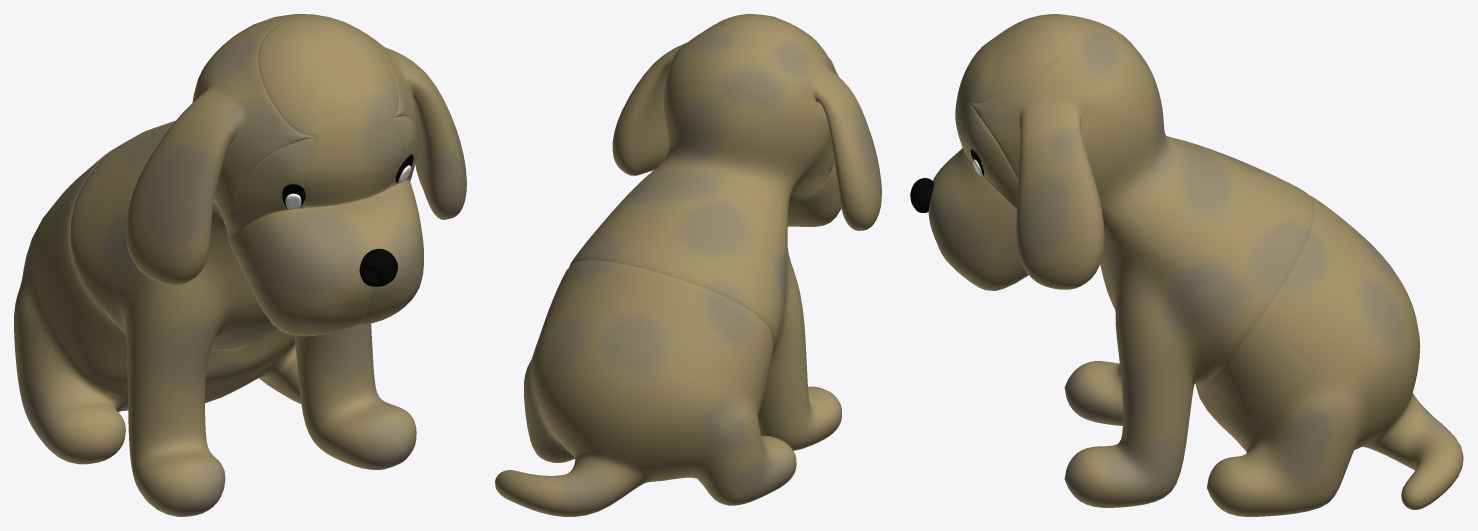
File: Dog bad.fbx
3 renders of one model, left to right at view 1: azimuth 30°, elevation 25°; view 2: azimuth 150°, elevation 25°; view 3: azimuth 270°, elevation 25°, orthographic. The views are drawn at different scales.
Visible parts, largest first — view 1: 15204_Over-sized_Prize-Dog_v1_NEW; view 2: 15204_Over-sized_Prize-Dog_v1_NEW; view 3: 15204_Over-sized_Prize-Dog_v1_NEW.
Boxes of the visible parts, <box> form: 15204_Over-sized_Prize-Dog_v1_NEW: <box>14,14,466,516</box>; 15204_Over-sized_Prize-Dog_v1_NEW: <box>495,14,881,516</box>; 15204_Over-sized_Prize-Dog_v1_NEW: <box>910,14,1463,516</box>.
Size of the model in its own units: 2265 by 3233 by 3692.
3 materials, 1 textured.
